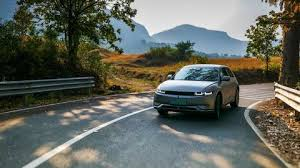Honda Ioniq: (152, 58, 247, 124)
